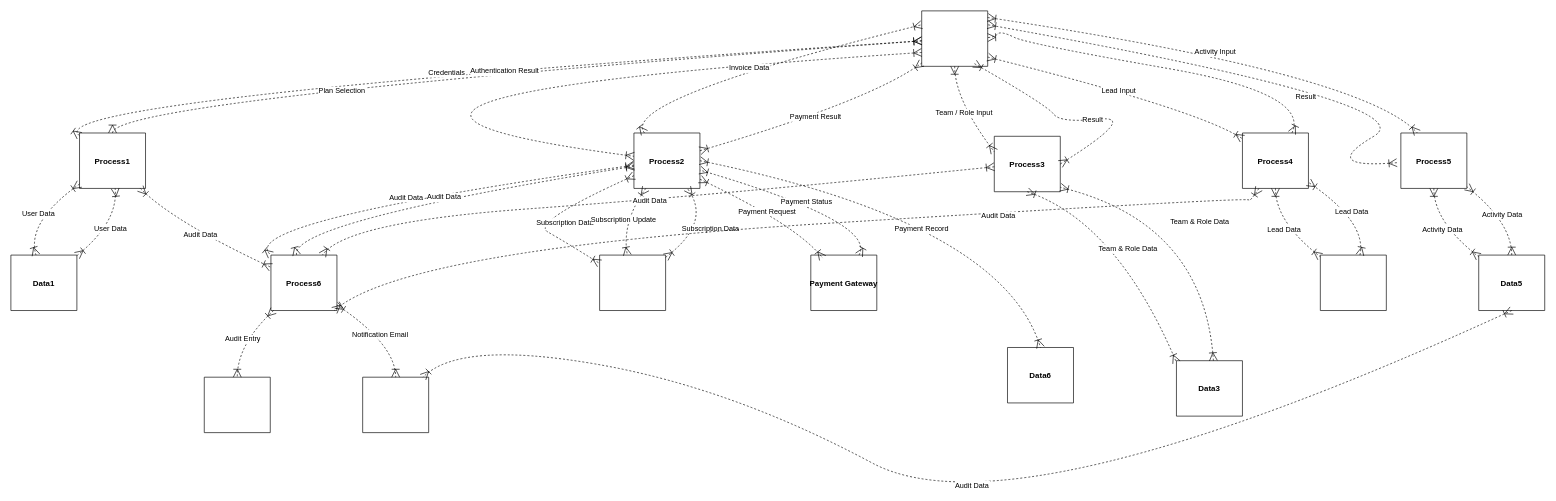
Image size: 1556x501. Some labels were removed from this diagram. Here are the shapes that lost their labels. From the top down, the centre of each, then its label:
the point at 954,38: User
the point at 632,282: Data2
the point at 1353,282: Data4
the point at 237,405: Data7
the point at 395,405: Email
